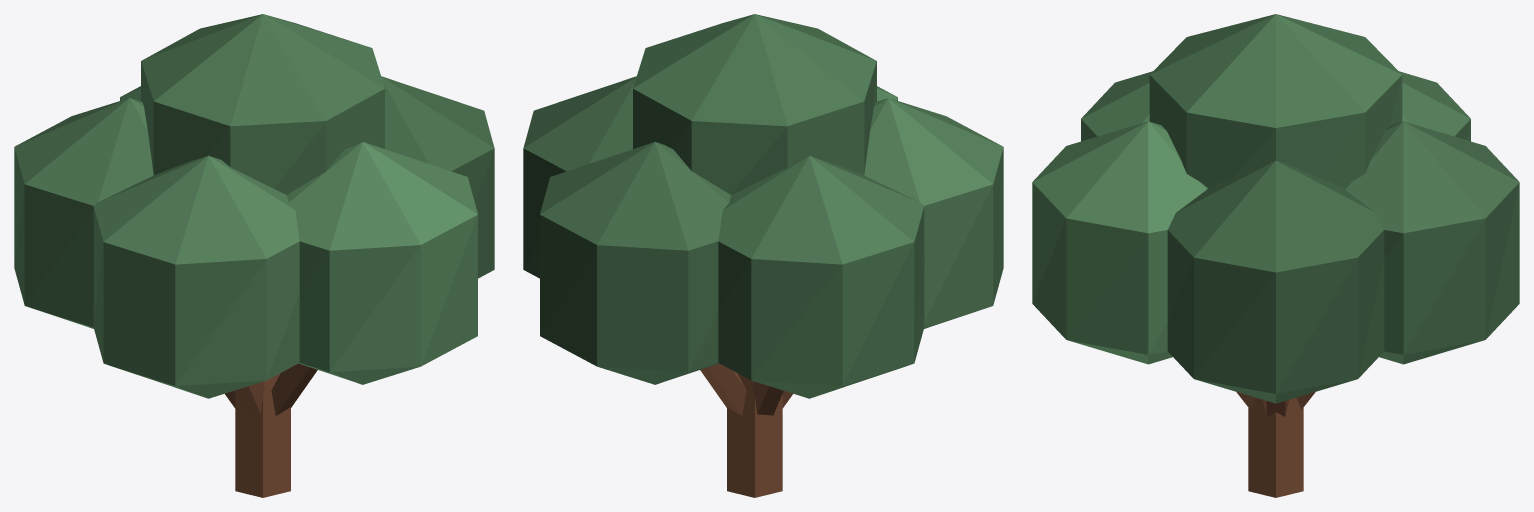
The model's file is bush_berry.glb.
The picture shows the model from 3 angles, left to right: view 1: azimuth 30°, elevation 25°; view 2: azimuth 150°, elevation 25°; view 3: azimuth 270°, elevation 25°; orthographic projection.
Visible parts, largest first — view 1: geometry; view 2: geometry; view 3: geometry.
Boxes of the visible parts, x1,y1,x2,y2 form: geometry: [14, 14, 494, 497]; geometry: [523, 14, 1003, 497]; geometry: [1032, 14, 1519, 497].
Size of the model in its own units: 0.8318 by 0.89 by 0.8359.
